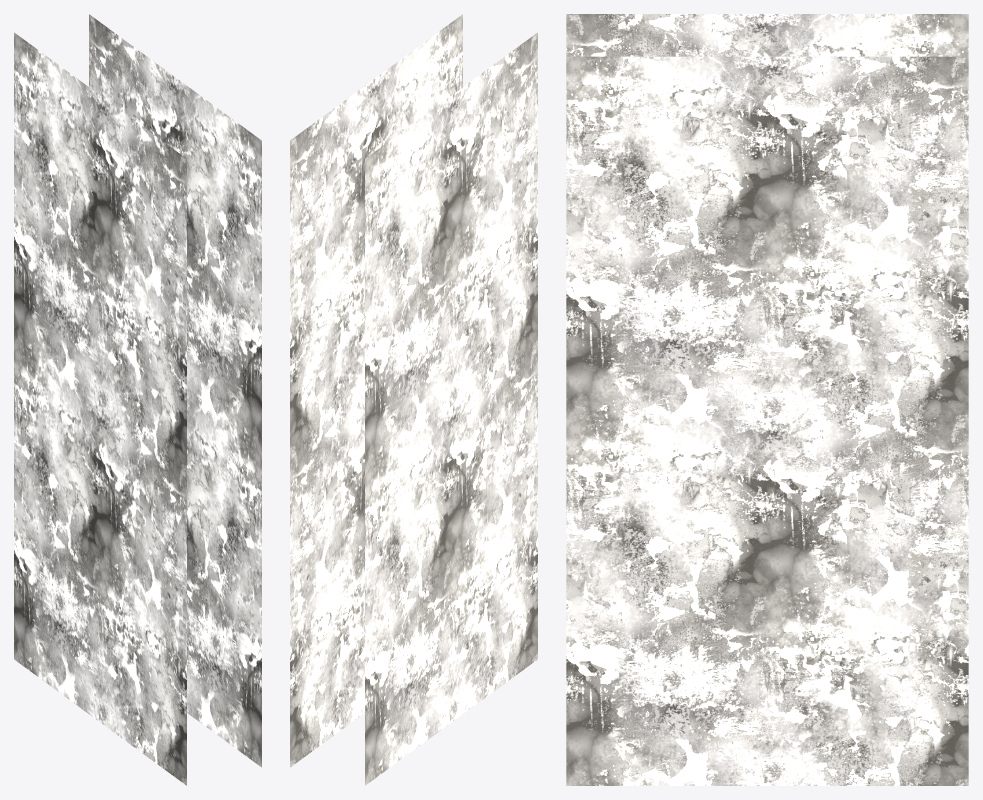
The model's file is SM_wall_A_2x4_01_01.fbx.
3 renders of one model, left to right at view 1: azimuth 30°, elevation 25°; view 2: azimuth 150°, elevation 25°; view 3: azimuth 270°, elevation 25°, orthographic. The views are drawn at different scales.
Visible parts, largest first — view 1: SM_wall_A_2x4_01_01_LOD0; view 2: SM_wall_A_2x4_01_01_LOD0; view 3: SM_wall_A_2x4_01_01_LOD0.
Part boxes in pixels (x1,y1,x2,y2): SM_wall_A_2x4_01_01_LOD0: [14, 14, 261, 785]; SM_wall_A_2x4_01_01_LOD0: [290, 14, 537, 785]; SM_wall_A_2x4_01_01_LOD0: [566, 14, 968, 785].
Size of the model in its own units: 50 by 200 by 400.
2 materials, 2 textured.
